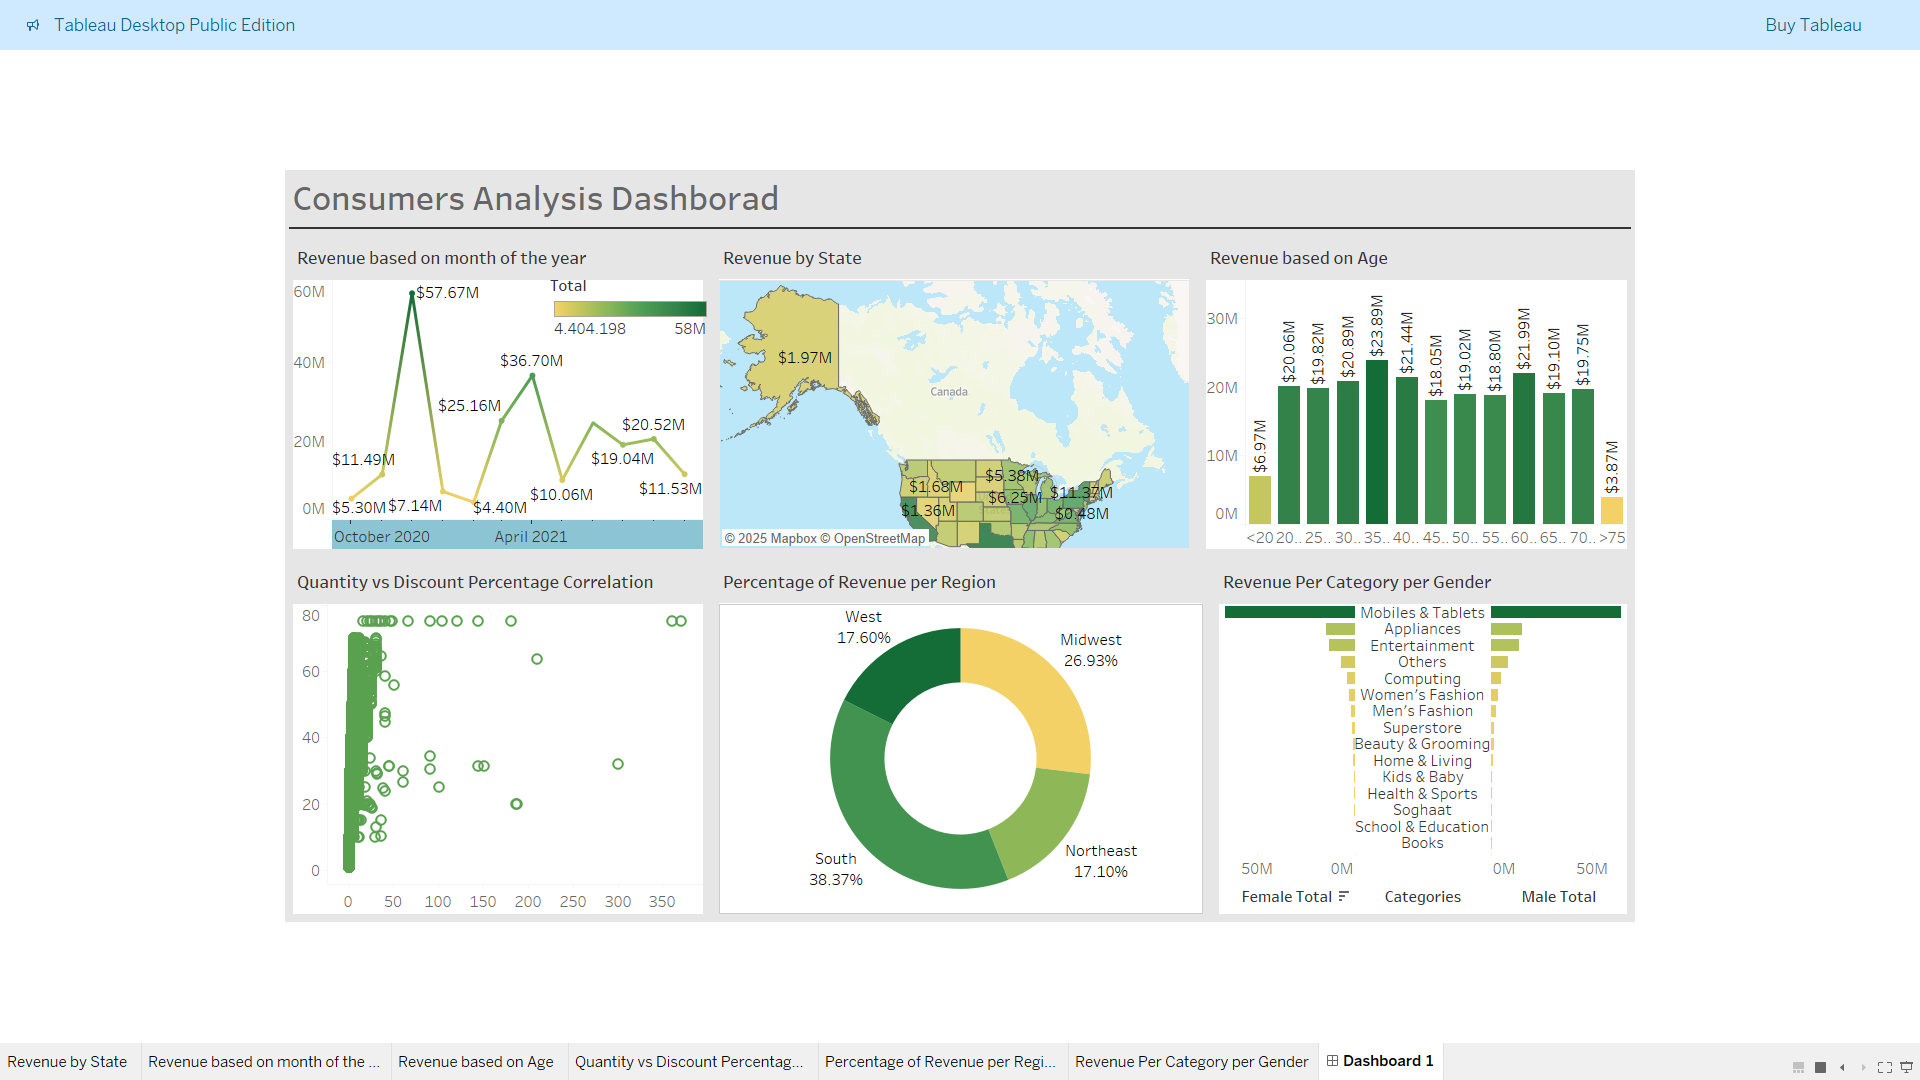

The dashboard page shown, as its layout file describes it:
{"tool":"tableau","page":{"name":"Dashboard 1","canvas":[1366,768],"ordinal":0},"visuals":[{"type":"text","box":[8,8,1350,53]},{"type":"blank","box":[8,61,1350,10]},{"type":"worksheet","title":"Revenue based on month of the year","mark":"Automatic","rows":["total"],"cols":["order_date"],"box":[8,71,426,324]},{"type":"worksheet","title":"Revenue by State","mark":"Automatic","box":[434,71,487,324]},{"type":"worksheet","title":"Revenue based on Age","mark":"Automatic","rows":["total"],"cols":["Age (bin)"],"box":[921,71,437,324]},{"type":"legend","title":"Revenue based on month of the year","param":"[federated.0qrinqh1lktrww13n1wwg14yax1i].[sum:total:qk]","box":[273,113,161,59]},{"type":"worksheet","title":"Quantity vs Discount Percentage Correlation","mark":"Automatic","rows":["Discount_Percent"],"cols":["qty_ordered"],"box":[8,395,426,365]},{"type":"worksheet","title":"Percentage of Revenue per Region","mark":"Pie","rows":["Calculation_910571556883243008","Calculation_910571556883243008"],"box":[434,395,500,365]},{"type":"worksheet","title":"Revenue Per Category per Gender","mark":"Automatic","rows":["category"],"cols":["Calculation_910571556887072769","Calculation_910571556883243008","Calculation_910571556887445506"],"box":[934,395,424,365]}]}

Visuals, with their boxes on the page's 1366x768 design canvas (x1, y1, x2, y2). These are canvas units, not pixel positions in the 1920x1080 screenshot, which may show the page scaled, cropped or inside an application window:
text: BBox(8, 8, 1358, 61)
blank: BBox(8, 61, 1358, 71)
"Revenue based on month of the year" worksheet: BBox(8, 71, 434, 395)
"Revenue by State" worksheet: BBox(434, 71, 921, 395)
"Revenue based on Age" worksheet: BBox(921, 71, 1358, 395)
"Revenue based on month of the year" legend: BBox(273, 113, 434, 172)
"Quantity vs Discount Percentage Correlation" worksheet: BBox(8, 395, 434, 760)
"Percentage of Revenue per Region" worksheet (Pie marks): BBox(434, 395, 934, 760)
"Revenue Per Category per Gender" worksheet: BBox(934, 395, 1358, 760)
